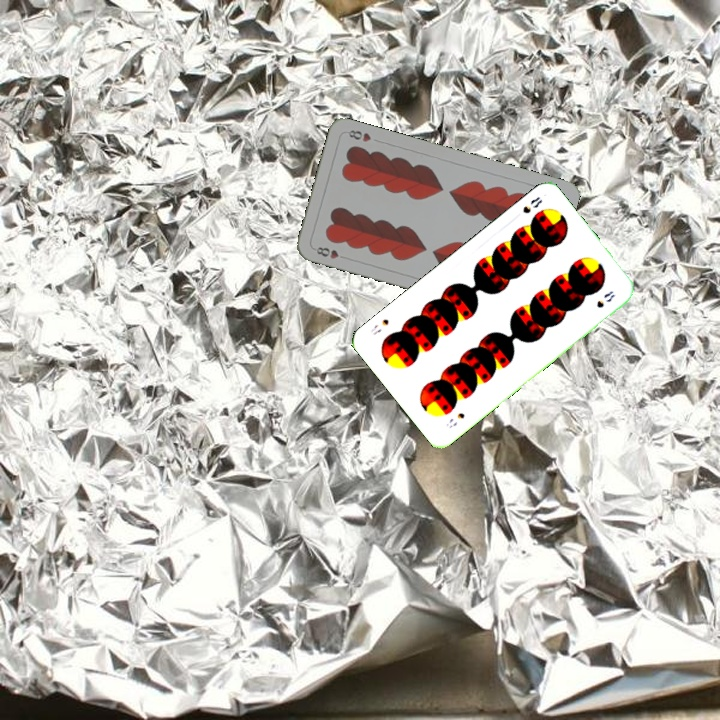H8: (312, 242, 350, 262)
S8: (519, 192, 545, 216), (442, 409, 467, 431)
